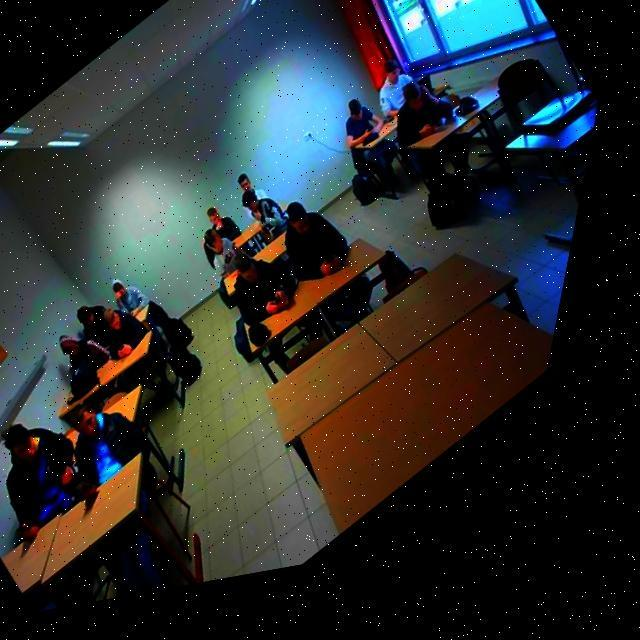phone_use: (1, 453, 140, 590), (62, 399, 182, 498), (78, 296, 184, 390), (218, 234, 294, 360), (284, 201, 353, 282), (345, 98, 395, 194), (396, 82, 454, 146), (325, 273, 370, 328)
